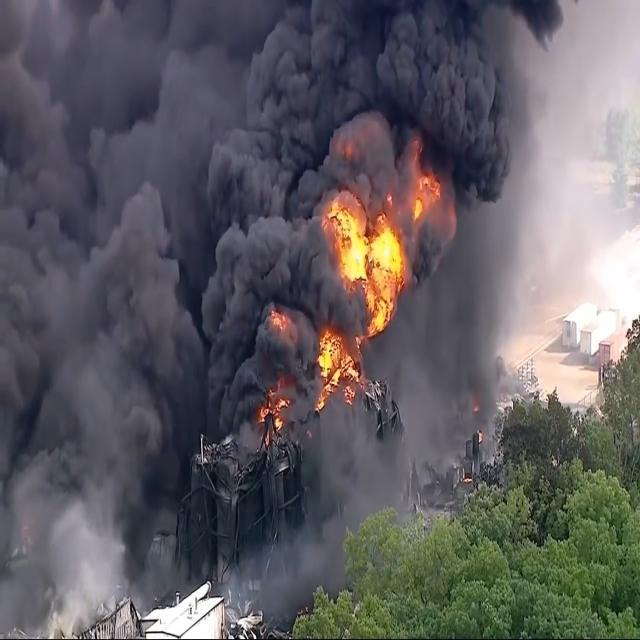Fire: (310, 117, 445, 409), (261, 378, 292, 449), (265, 300, 292, 346), (476, 429, 483, 444), (474, 402, 480, 416)
Smoke: (211, 0, 556, 450), (0, 0, 242, 640)
